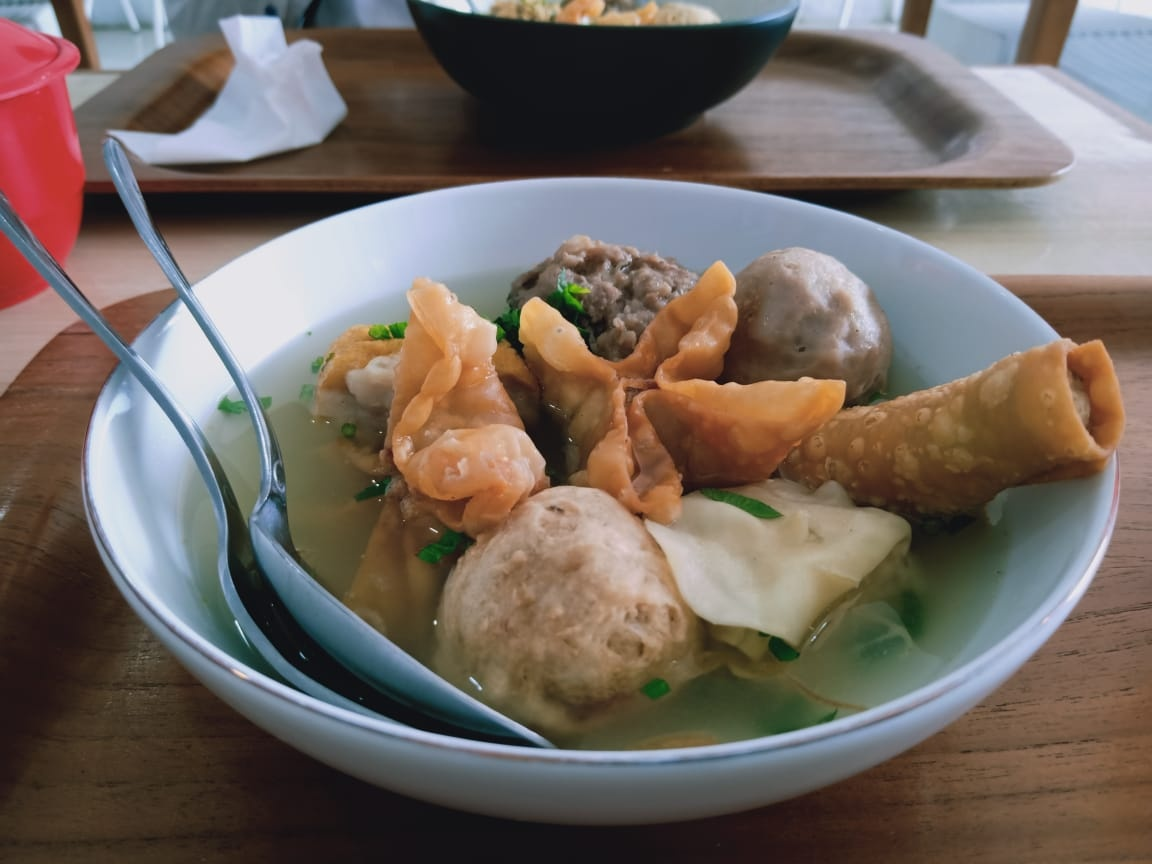bakso_malang: (317, 236, 1124, 732)
